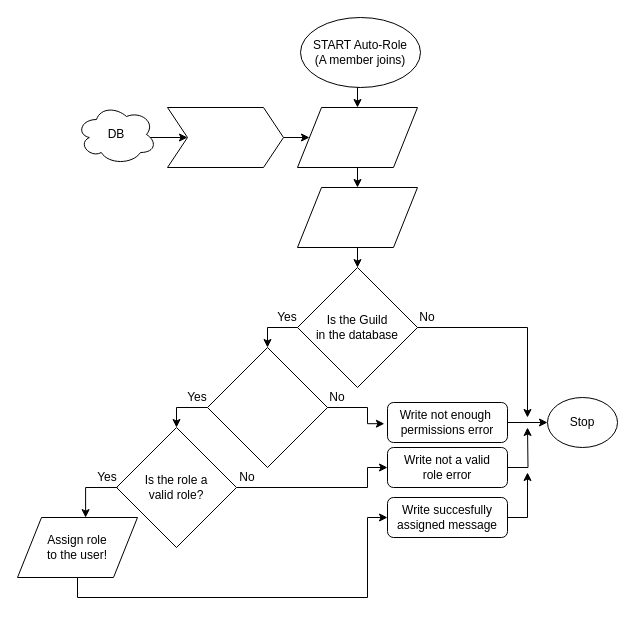
Some shapes in this 635 by 623 pixel diagram are drawn without their labels. The shapes that lost their labels are listed below. From the top down, each one's centre as x and y in pixels, then its label:
At (225,137): "Fetch everything from DB".
At (357,137): "Read Database".
At (357,217): "Read: User (author), Guild, Bot, Role".
At (267,407): "Does the bot have enough permissions?".
